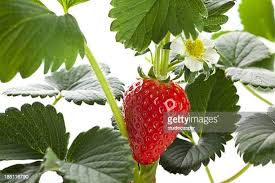ripe: (122, 74, 192, 170)
